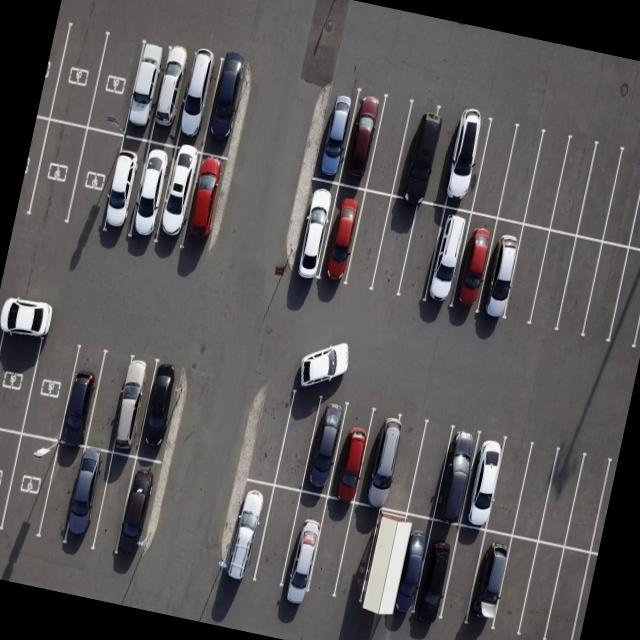car: (214, 475, 276, 592), (110, 454, 170, 566), (406, 517, 464, 630), (60, 446, 116, 556), (180, 151, 237, 257), (390, 98, 448, 202), (278, 486, 332, 597), (94, 132, 148, 242), (134, 362, 190, 467), (124, 139, 178, 247), (444, 210, 498, 318), (465, 526, 519, 634), (386, 512, 438, 623), (316, 182, 370, 288), (150, 147, 203, 254), (421, 206, 474, 312), (475, 217, 528, 323), (54, 342, 107, 448), (354, 412, 408, 514), (0, 309, 44, 434), (338, 88, 391, 190), (324, 404, 377, 506), (106, 354, 158, 457), (454, 433, 508, 532), (291, 177, 340, 286), (299, 398, 352, 498), (430, 426, 484, 524), (440, 114, 492, 215), (171, 51, 221, 152), (202, 59, 252, 160), (147, 46, 195, 148), (118, 39, 166, 141), (312, 84, 360, 185)
free: (20, 327, 84, 442), (63, 125, 125, 238), (0, 431, 63, 539), (24, 117, 84, 229), (250, 484, 308, 598), (46, 20, 106, 128), (432, 522, 488, 634), (82, 348, 140, 454), (86, 31, 144, 136), (355, 507, 409, 618), (485, 533, 541, 640), (301, 496, 355, 606), (552, 232, 606, 339), (528, 229, 582, 334), (33, 441, 86, 547), (576, 238, 629, 344), (364, 92, 417, 196), (88, 449, 139, 557), (500, 223, 552, 328), (343, 190, 394, 296), (563, 452, 616, 554), (329, 503, 380, 609), (511, 540, 565, 640), (396, 202, 448, 304), (274, 392, 326, 494), (509, 440, 562, 540), (534, 448, 586, 549), (368, 192, 419, 294), (402, 420, 454, 520), (485, 438, 537, 538), (549, 136, 601, 236), (574, 142, 625, 242), (542, 546, 596, 640), (519, 132, 569, 232), (466, 123, 516, 221), (495, 126, 545, 224), (378, 416, 428, 514), (419, 106, 466, 206), (597, 146, 640, 247), (607, 246, 640, 354), (0, 426, 19, 534), (626, 154, 640, 256)
